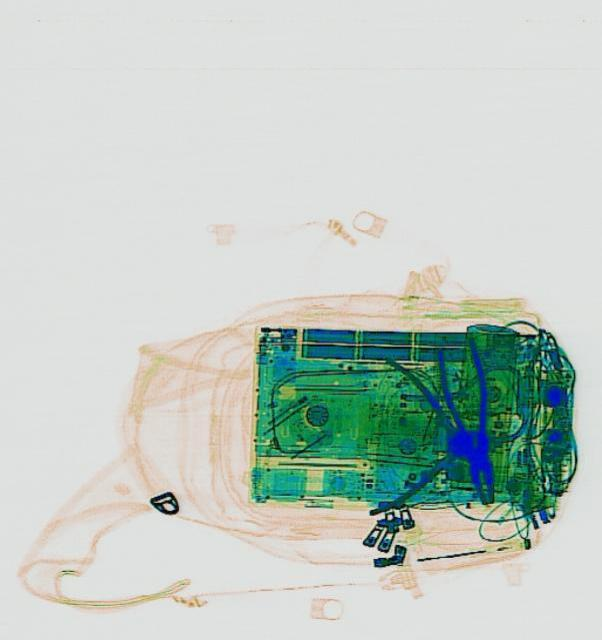Pliers: (365, 354, 476, 520), (428, 335, 509, 507)
